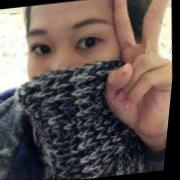WRONG: (18, 5, 143, 134)
